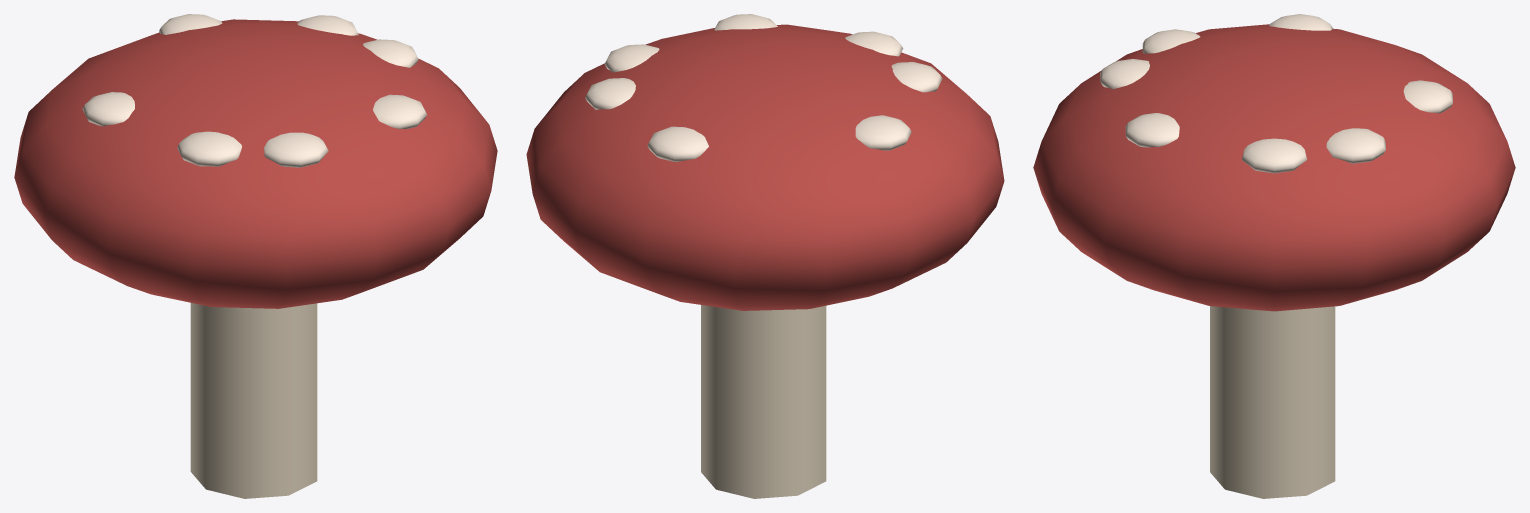
The model's file is toadstool.glb.
3 renders of one model, left to right at view 1: azimuth 30°, elevation 25°; view 2: azimuth 150°, elevation 25°; view 3: azimuth 270°, elevation 25°, orthographic.
Parts seen in each view (by area): view 1: Cap, Stem, Spot1, Spot6, Spot3, Spot4, Spot0, Spot2, Spot5; view 2: Cap, Stem, Spot2, Spot4, Spot5, Spot1, Spot0, Spot6, Spot3; view 3: Cap, Stem, Spot0, Spot5, Spot3, Spot2, Spot6, Spot1, Spot4.
Part boxes in pixels (x1,y1,x2,y2): Cap: (14,19,497,308); Stem: (190,303,317,498); Spot1: (177,131,241,166); Spot6: (264,132,328,167); Spot3: (373,94,427,129); Spot4: (82,92,134,126); Spot0: (363,39,418,67); Spot2: (159,14,222,34); Spot5: (297,15,358,35); Cap: (526,24,1004,310); Stem: (701,305,826,498); Spot2: (647,126,708,161); Spot4: (855,115,911,150); Spot5: (585,78,635,109); Spot1: (891,62,942,92); Spot0: (604,44,659,72); Spot6: (845,31,903,56); Spot3: (714,14,777,30); Cap: (1033,24,1515,311); Stem: (1210,306,1335,498); Spot0: (1241,138,1307,173); Spot5: (1326,128,1385,163); Spot3: (1125,113,1179,147); Spot2: (1403,80,1452,113); Spot6: (1100,59,1149,89); Spot1: (1142,29,1200,53); Spot4: (1268,14,1332,30).
Size of the model in its own units: 0.56 by 0.52 by 0.56.
